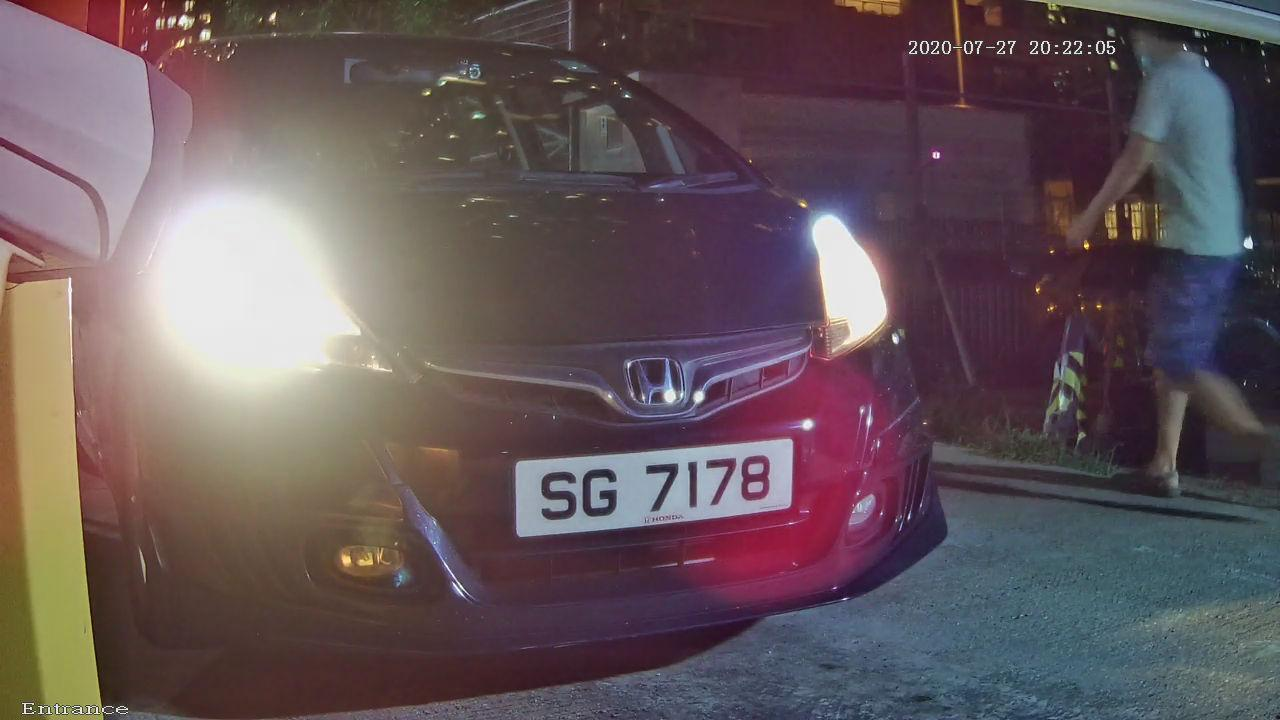privatecar: (69, 10, 966, 682)
